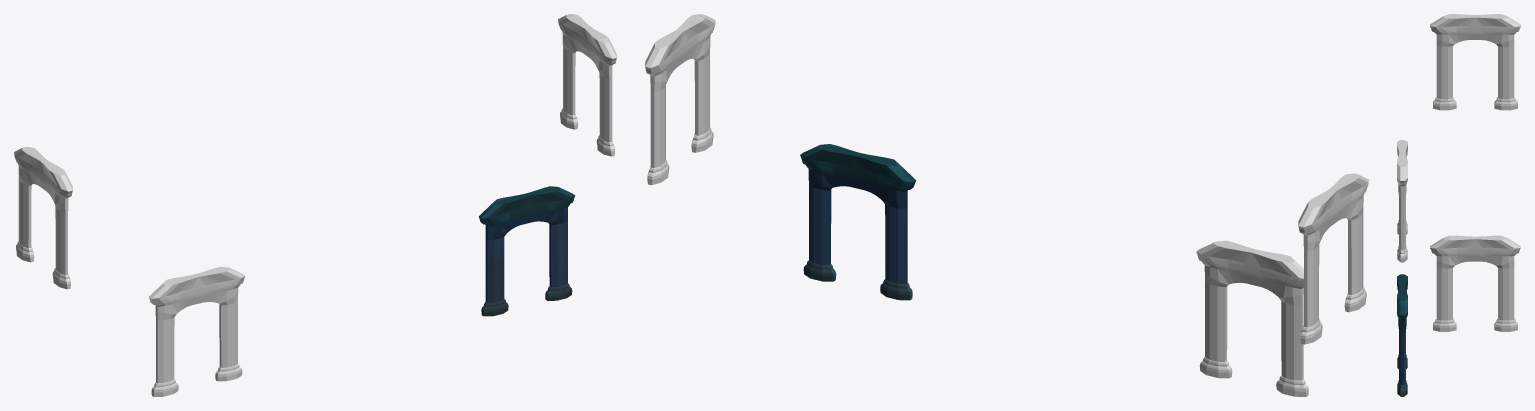
File: kapı.fbx
3 views of the same model, side by side, from view 1: azimuth 30°, elevation 25°; view 2: azimuth 150°, elevation 25°; view 3: azimuth 270°, elevation 25° (orthographic). The views are drawn at different scales.
Parts seen in each view (by area): view 1: kapıgirissag, kapıgirissag.001, Kapı_girisSolUst, Kapı_girisSagUst; view 2: kapıgirissag, kapıgirissag.001, Kapı_girisSolUst, Kapı_girisSagUst; view 3: Kapı_girisSolUst, Kapı_girisSagUst, kapıgirissag, kapıgirissag.001.
Boxes of the visible parts, bbox=[...] form: kapıgirissag: bbox=[478, 186, 575, 316]; kapıgirissag.001: bbox=[148, 266, 245, 396]; Kapı_girisSolUst: bbox=[14, 146, 72, 289]; Kapı_girisSagUst: bbox=[558, 14, 616, 156]; kapıgirissag: bbox=[800, 144, 916, 300]; kapıgirissag.001: bbox=[1196, 240, 1308, 396]; Kapı_girisSolUst: bbox=[1298, 173, 1368, 344]; Kapı_girisSagUst: bbox=[645, 14, 715, 185]; Kapı_girisSolUst: bbox=[1430, 14, 1520, 110]; Kapı_girisSagUst: bbox=[1430, 235, 1520, 331]; kapıgirissag: bbox=[1397, 274, 1407, 396]; kapıgirissag.001: bbox=[1397, 140, 1407, 262].
Bounding box in the file's own units: 2447 × 926 × 566.
